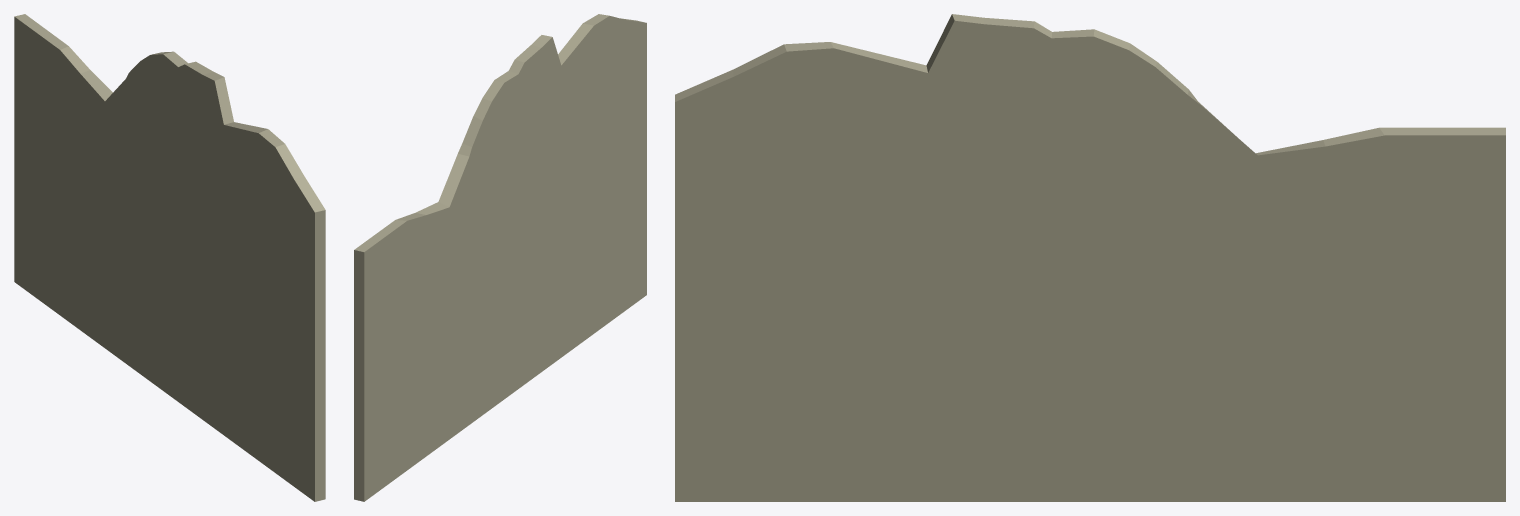
The model's file is WallBroken.fbx.
3 views of the same model, side by side, from view 1: azimuth 30°, elevation 25°; view 2: azimuth 150°, elevation 25°; view 3: azimuth 270°, elevation 25° (orthographic). The views are drawn at different scales.
Parts seen in each view (by area): view 1: WallBroken; view 2: WallBroken; view 3: WallBroken.
Boxes of the visible parts, x1,y1,x2,y2 form: WallBroken: [14, 14, 325, 501]; WallBroken: [354, 14, 646, 501]; WallBroken: [675, 14, 1505, 501].
Size of the model in its own units: 0.25 by 7.67 by 12.
